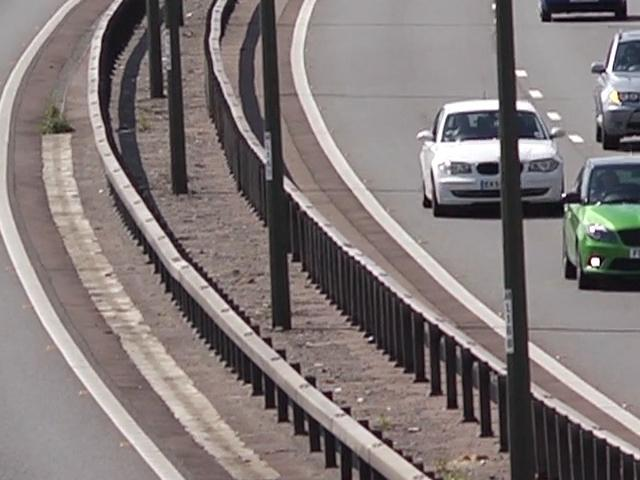car: (415, 98, 577, 220), (563, 156, 640, 291), (588, 25, 640, 150), (538, 0, 640, 25)
